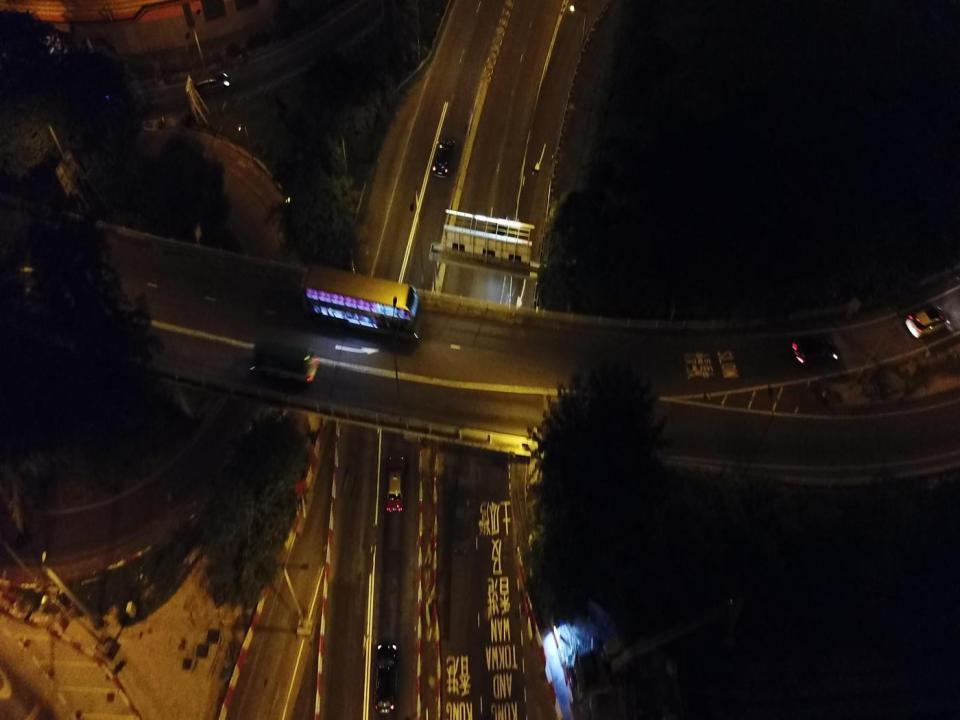bus: (300, 260, 423, 342), (252, 338, 320, 383)
car: (375, 642, 398, 716), (794, 338, 838, 365), (387, 456, 405, 511), (432, 137, 454, 180)
van: (906, 304, 950, 338), (193, 72, 231, 100)
